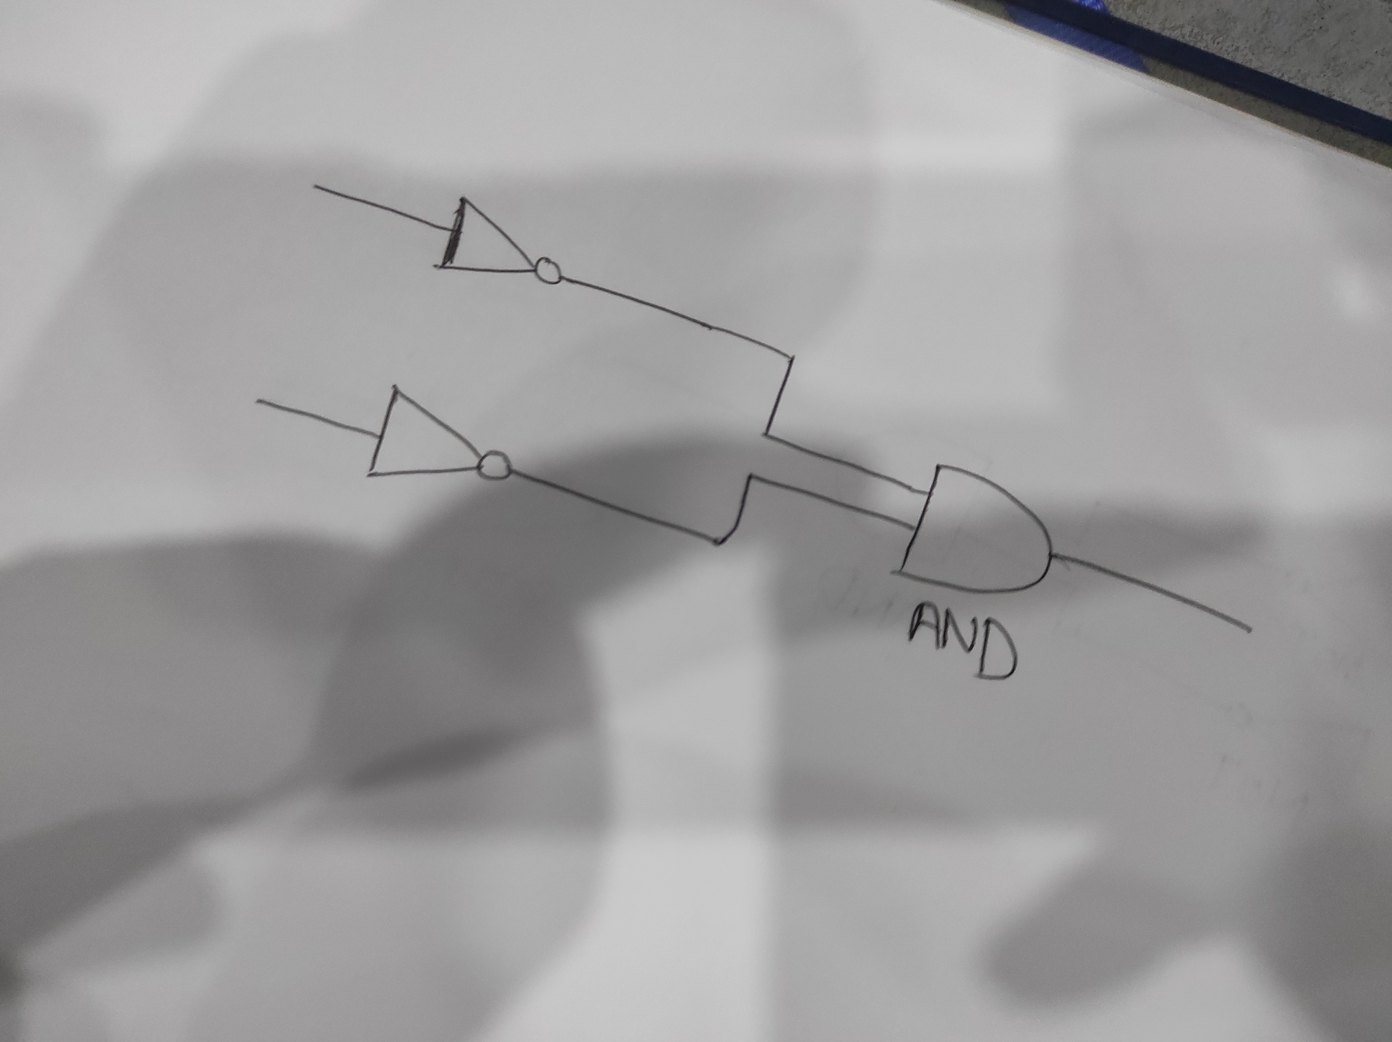and: (886, 460, 1058, 597)
junction: (773, 343, 800, 375), (706, 526, 738, 552), (740, 466, 759, 488), (755, 427, 772, 448)
not: (362, 382, 520, 487), (430, 192, 570, 290)
terminal: (241, 390, 280, 420), (302, 177, 332, 199), (1234, 618, 1261, 641)
text: (900, 597, 1023, 685)
